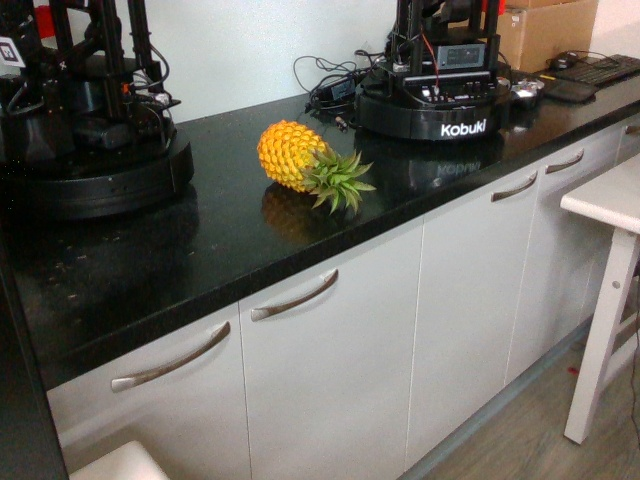pineapple: (255, 116, 380, 215)
